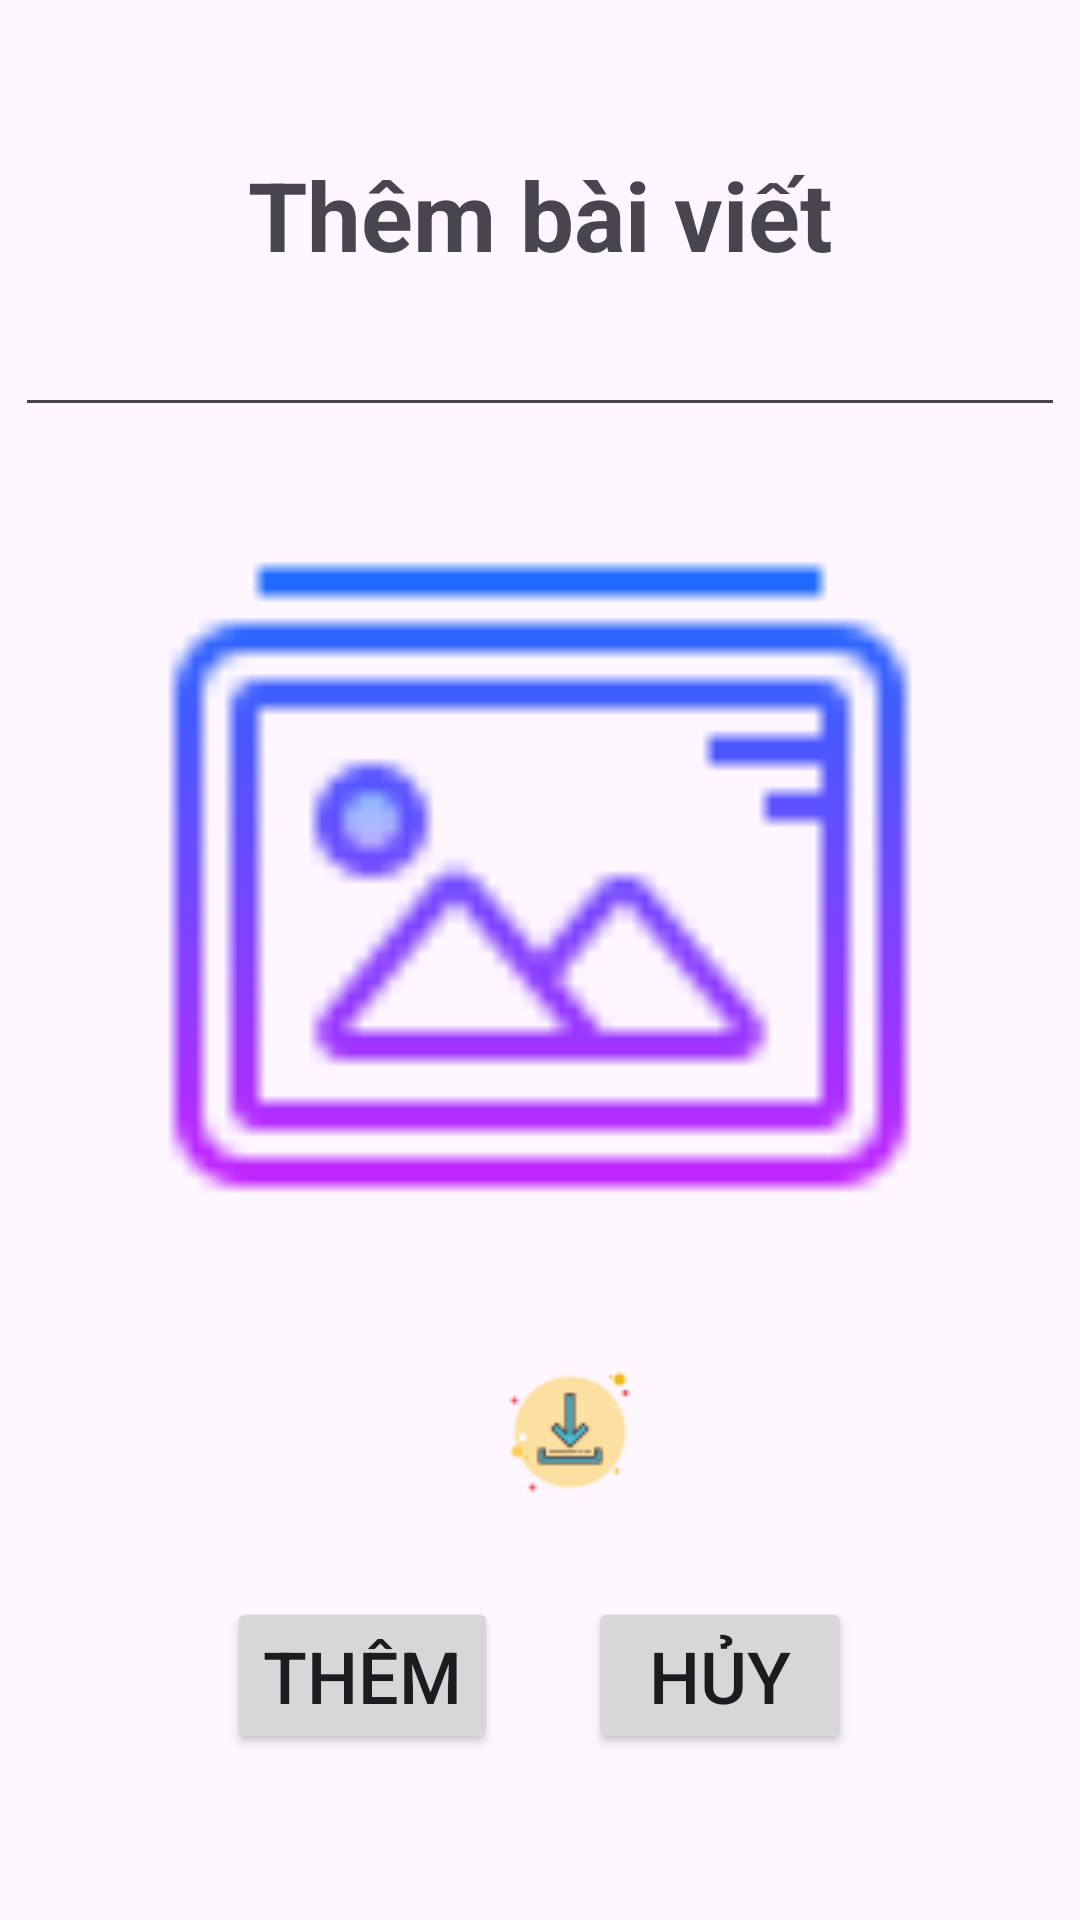

Icons on this 1080 × 1920 Android screen, each with the point to tap as (x=x, y=y):
down: (x=569, y=1432)
